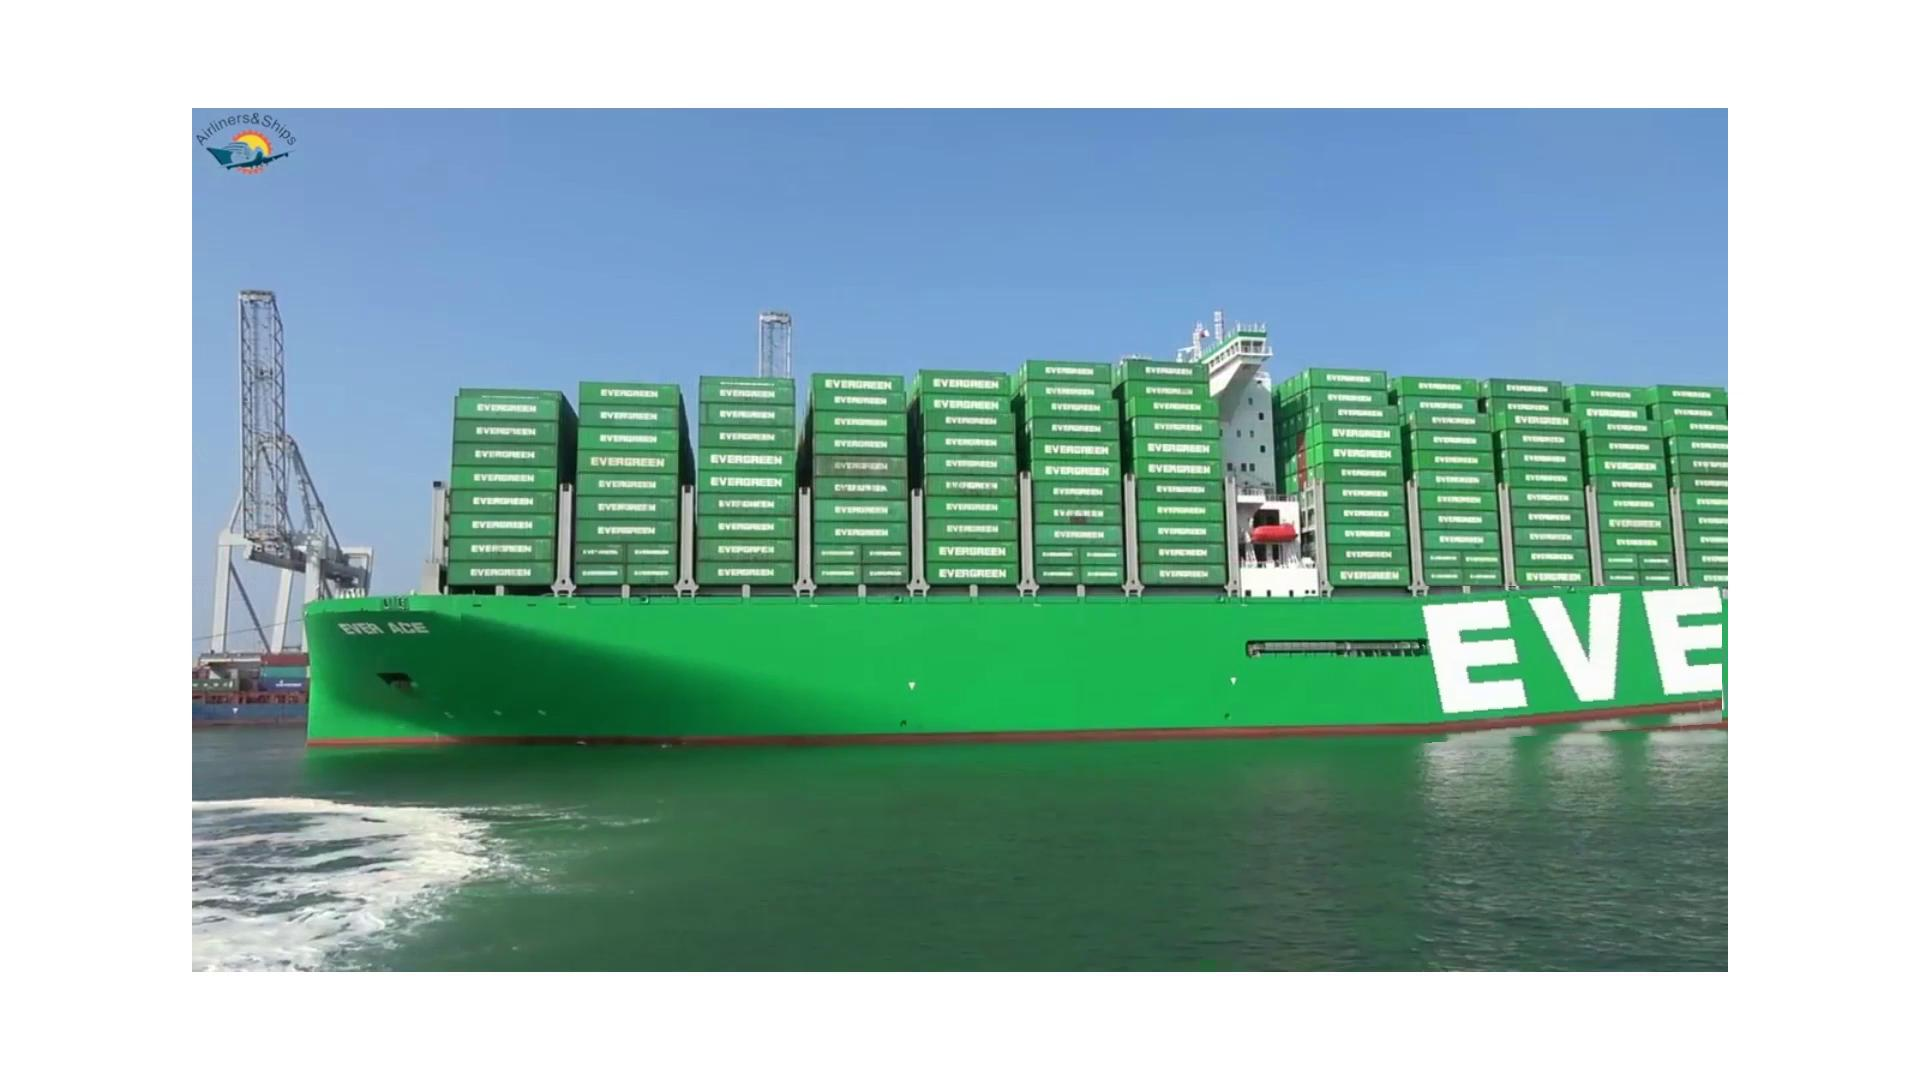OCR: (1402, 585, 1722, 742), (316, 600, 462, 653)
